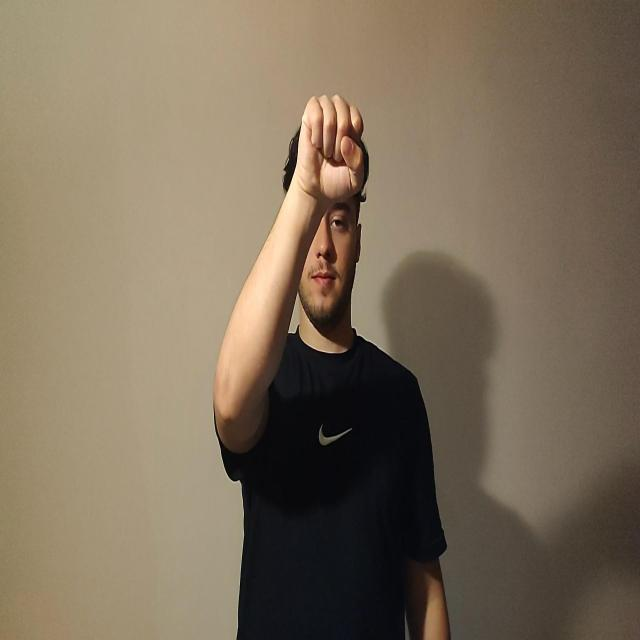yes: (294, 92, 368, 204)
